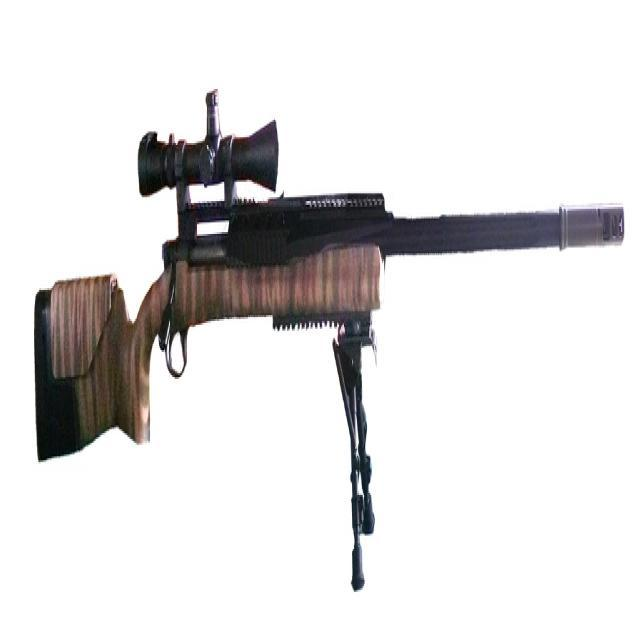weapon: (32, 88, 624, 592)
